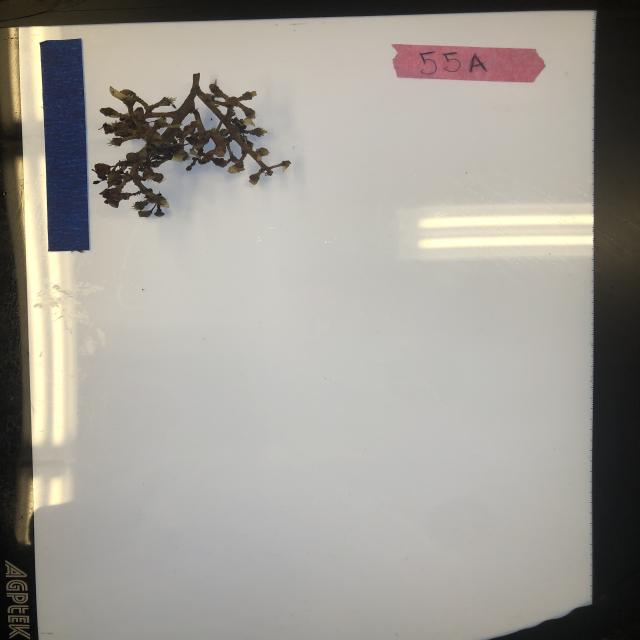index: (390, 41, 548, 88)
measure_label: (36, 36, 91, 253)
rachis_cluster: (93, 70, 296, 221)
